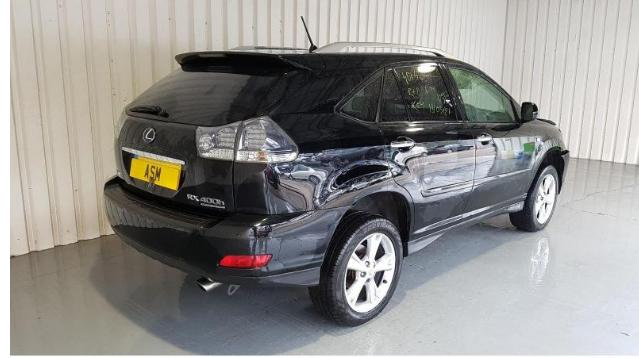Back-bumper: (103, 174, 352, 286)
Back-door: (378, 60, 476, 240)
Back-wheel: (309, 209, 404, 326)
Back-window: (381, 66, 459, 121), (340, 75, 382, 122)
Back-windshield: (125, 62, 305, 127)
Fender: (521, 119, 566, 201)
Front-bumper: (560, 150, 570, 193)
Front-door: (445, 63, 536, 221)
Front-wheel: (509, 164, 558, 231)
Front-window: (449, 69, 517, 122)
Headlight: (552, 126, 564, 143)
License-plate: (123, 152, 185, 198), (129, 159, 179, 191)
Mirror: (512, 101, 539, 123)
Quarter-panel: (232, 112, 415, 241)
Rocker-panel: (408, 200, 525, 254)
Roof: (316, 53, 456, 69)
Tail-light: (195, 115, 299, 163), (114, 109, 131, 139)
Trunk: (114, 52, 325, 219)
